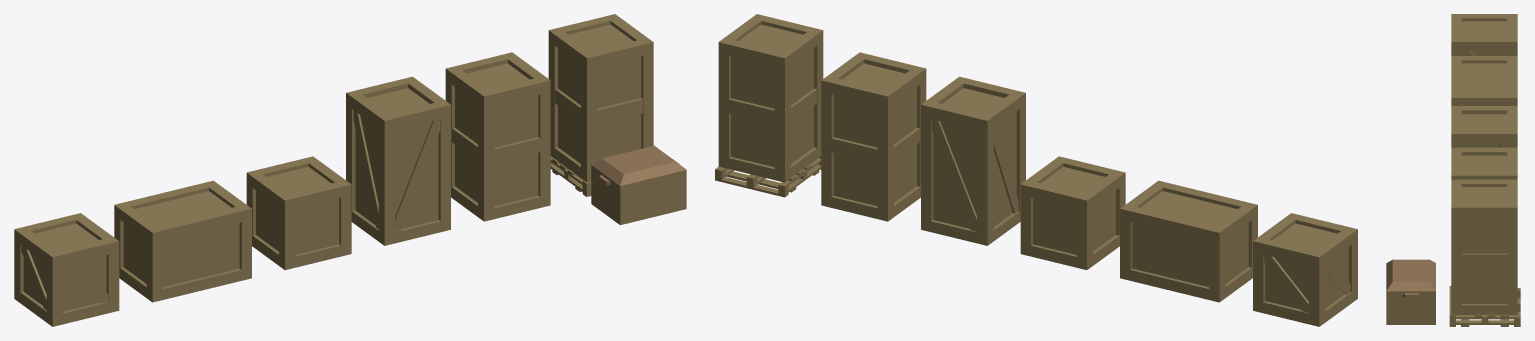
The model's file is boxes_01.fbx.
The picture shows the model from 3 angles, left to right: view 1: azimuth 30°, elevation 25°; view 2: azimuth 150°, elevation 25°; view 3: azimuth 270°, elevation 25°; orthographic projection. The views are drawn at different scales.
Parts seen in each view (by area): view 1: box_4, box_5, box_6, box_2, box_3, box_1, box_7; view 2: box_6, box_4, box_5, box_2, box_3, box_1; view 3: box_6, box_2, box_7, box_4, box_3, box_5.
Boxes of the visible parts, <box> form: box_4: <box>346,76,450,245</box>; box_5: <box>445,52,550,221</box>; box_6: <box>548,14,653,196</box>; box_2: <box>114,180,251,302</box>; box_3: <box>14,213,119,326</box>; box_1: <box>246,156,351,270</box>; box_7: <box>591,145,686,225</box>; box_6: <box>715,14,823,197</box>; box_4: <box>921,76,1025,245</box>; box_5: <box>821,52,926,221</box>; box_2: <box>1120,180,1257,302</box>; box_3: <box>1253,213,1357,326</box>; box_1: <box>1020,156,1125,269</box>; box_6: <box>1449,179,1520,326</box>; box_2: <box>1451,56,1517,105</box>; box_7: <box>1386,259,1435,324</box>; box_4: <box>1451,106,1517,147</box>; box_3: <box>1451,14,1517,55</box>; box_5: <box>1451,147,1517,179</box>.
Bounding box in the file's own units: 18.16 × 3.98 × 4.06.
